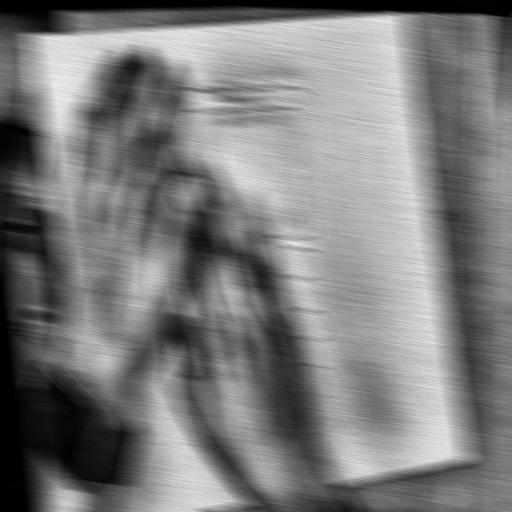bottom_right: (459, 449, 477, 462)
mobile: (152, 21, 364, 467)
top_left: (22, 30, 38, 41)
top_right: (398, 11, 414, 20)
